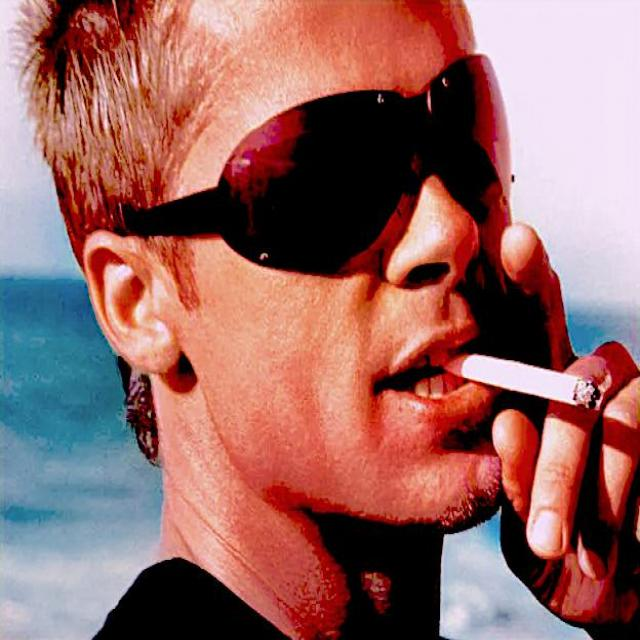cigarette: (408, 283, 640, 556)
